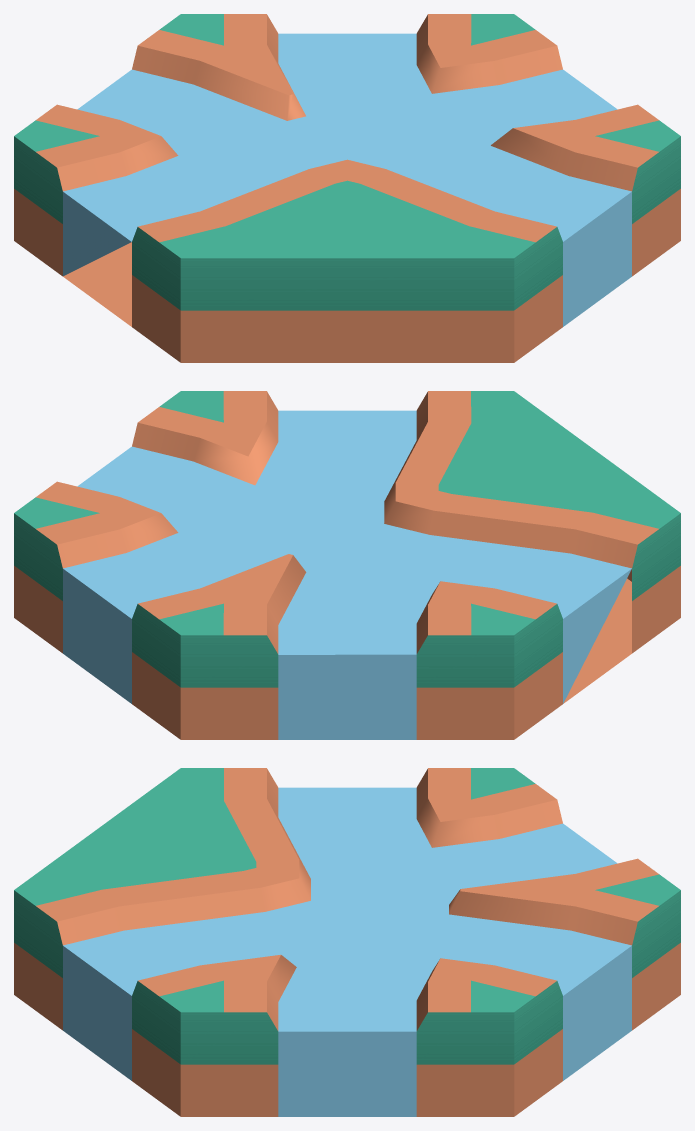
Rendered from river-intersectionG.glb.
3 views of the same model, one above another, from view 1: azimuth 30°, elevation 25°; view 2: azimuth 150°, elevation 25°; view 3: azimuth 270°, elevation 25° (orthographic).
Parts seen in each view (by area): view 1: river-intersectionG; view 2: river-intersectionG; view 3: river-intersectionG.
Part boxes in pixels (bbox=[...]): river-intersectionG: bbox=[14, 14, 680, 362]; river-intersectionG: bbox=[14, 391, 680, 739]; river-intersectionG: bbox=[14, 768, 680, 1116].
Bounding box in the file's own units: 1 × 0.2 × 1.15.
1 material, 1 textured.
